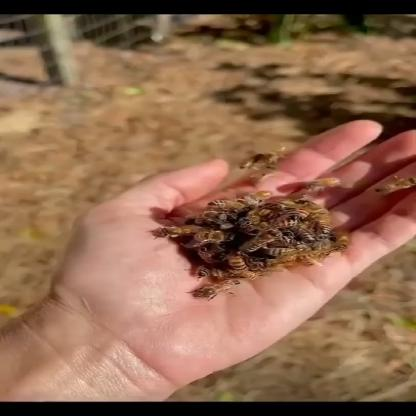bee: (144, 147, 416, 302)
